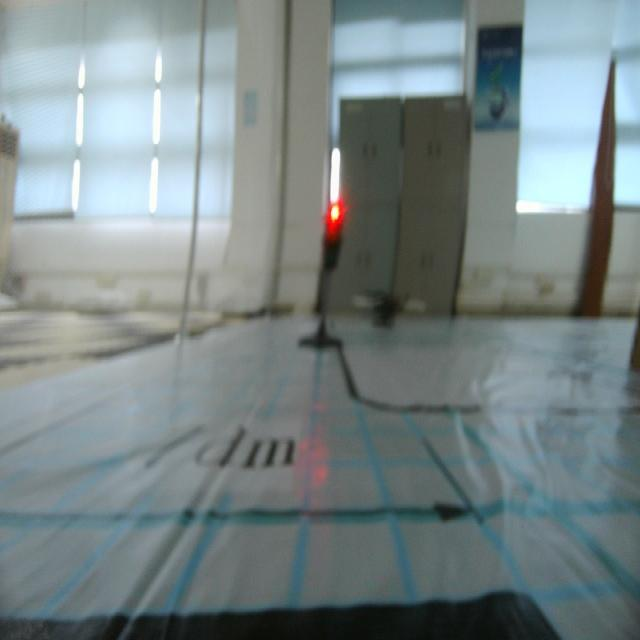red: (322, 200, 345, 274)
